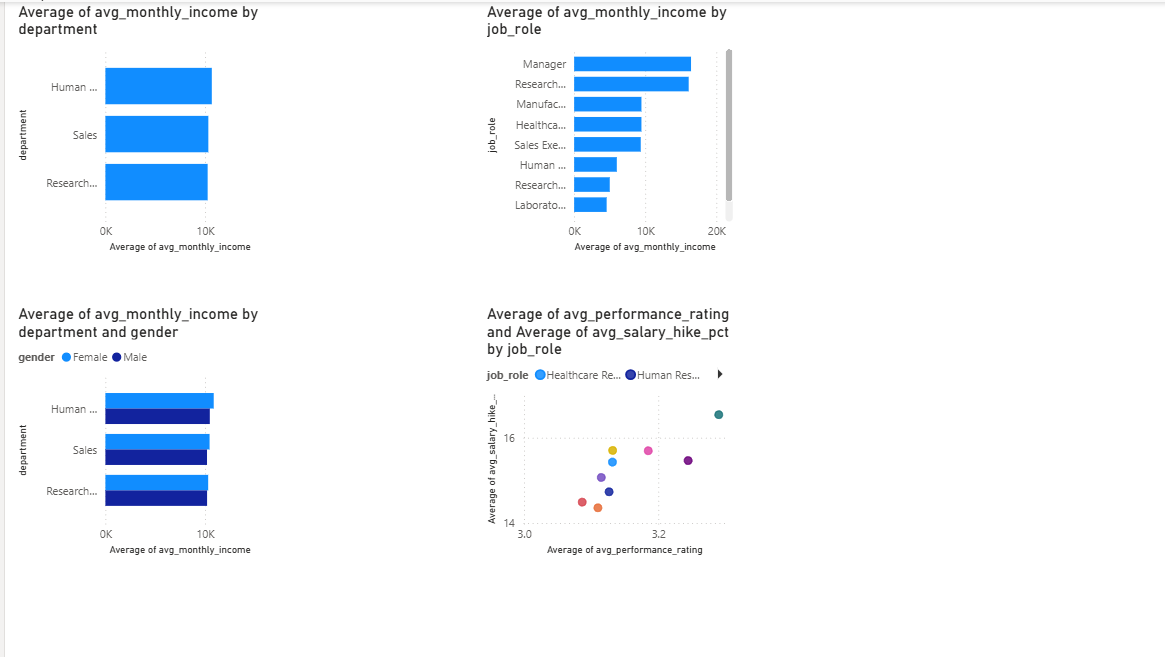

What the dashboard file says about the page in this screenshot:
{"tool":"powerbi","page":{"name":"Salary & Performance","canvas":[1280,720],"ordinal":1},"visuals":[{"type":"barChart","fields":{"Category":["public vw_salary_performance.department"],"Y":["Avg(public vw_salary_performance.avg_monthly_income)"]},"box":[10,0,280,280],"z":0},{"type":"barChart","fields":{"Category":["public vw_salary_performance.job_role"],"Y":["Avg(public vw_salary_performance.avg_monthly_income)"]},"box":[524.2,0,279.9,279.9],"z":1000},{"type":"clusteredBarChart","fields":{"Category":["public vw_salary_performance.department"],"Y":["Avg(public vw_salary_performance.avg_monthly_income)"],"Series":["public vw_salary_performance.gender"]},"box":[9.6,332.1,279.9,279.9],"z":2000},{"type":"scatterChart","fields":{"X":["Avg(public vw_salary_performance.avg_performance_rating)"],"Y":["Avg(public vw_salary_performance.avg_salary_hike_pct)"],"Series":["public vw_salary_performance.job_role"]},"box":[524.2,332.1,279.9,279.9],"z":3000}]}

Visuals, with their boxes in screenshot pixels (x1, y1, x2, y2), scaled from the page's 1280x720 canvas onto the 1165x657 screenshot:
barChart - public vw_salary_performance.department x Avg(public vw_salary_performance.avg_monthly_income): box(9, 0, 264, 256)
barChart - public vw_salary_performance.job_role x Avg(public vw_salary_performance.avg_monthly_income): box(477, 0, 732, 255)
clusteredBarChart - public vw_salary_performance.department x Avg(public vw_salary_performance.avg_monthly_income): box(9, 303, 263, 558)
scatterChart - Avg(public vw_salary_performance.avg_performance_rating) x Avg(public vw_salary_performance.avg_salary_hike_pct): box(477, 303, 732, 558)
